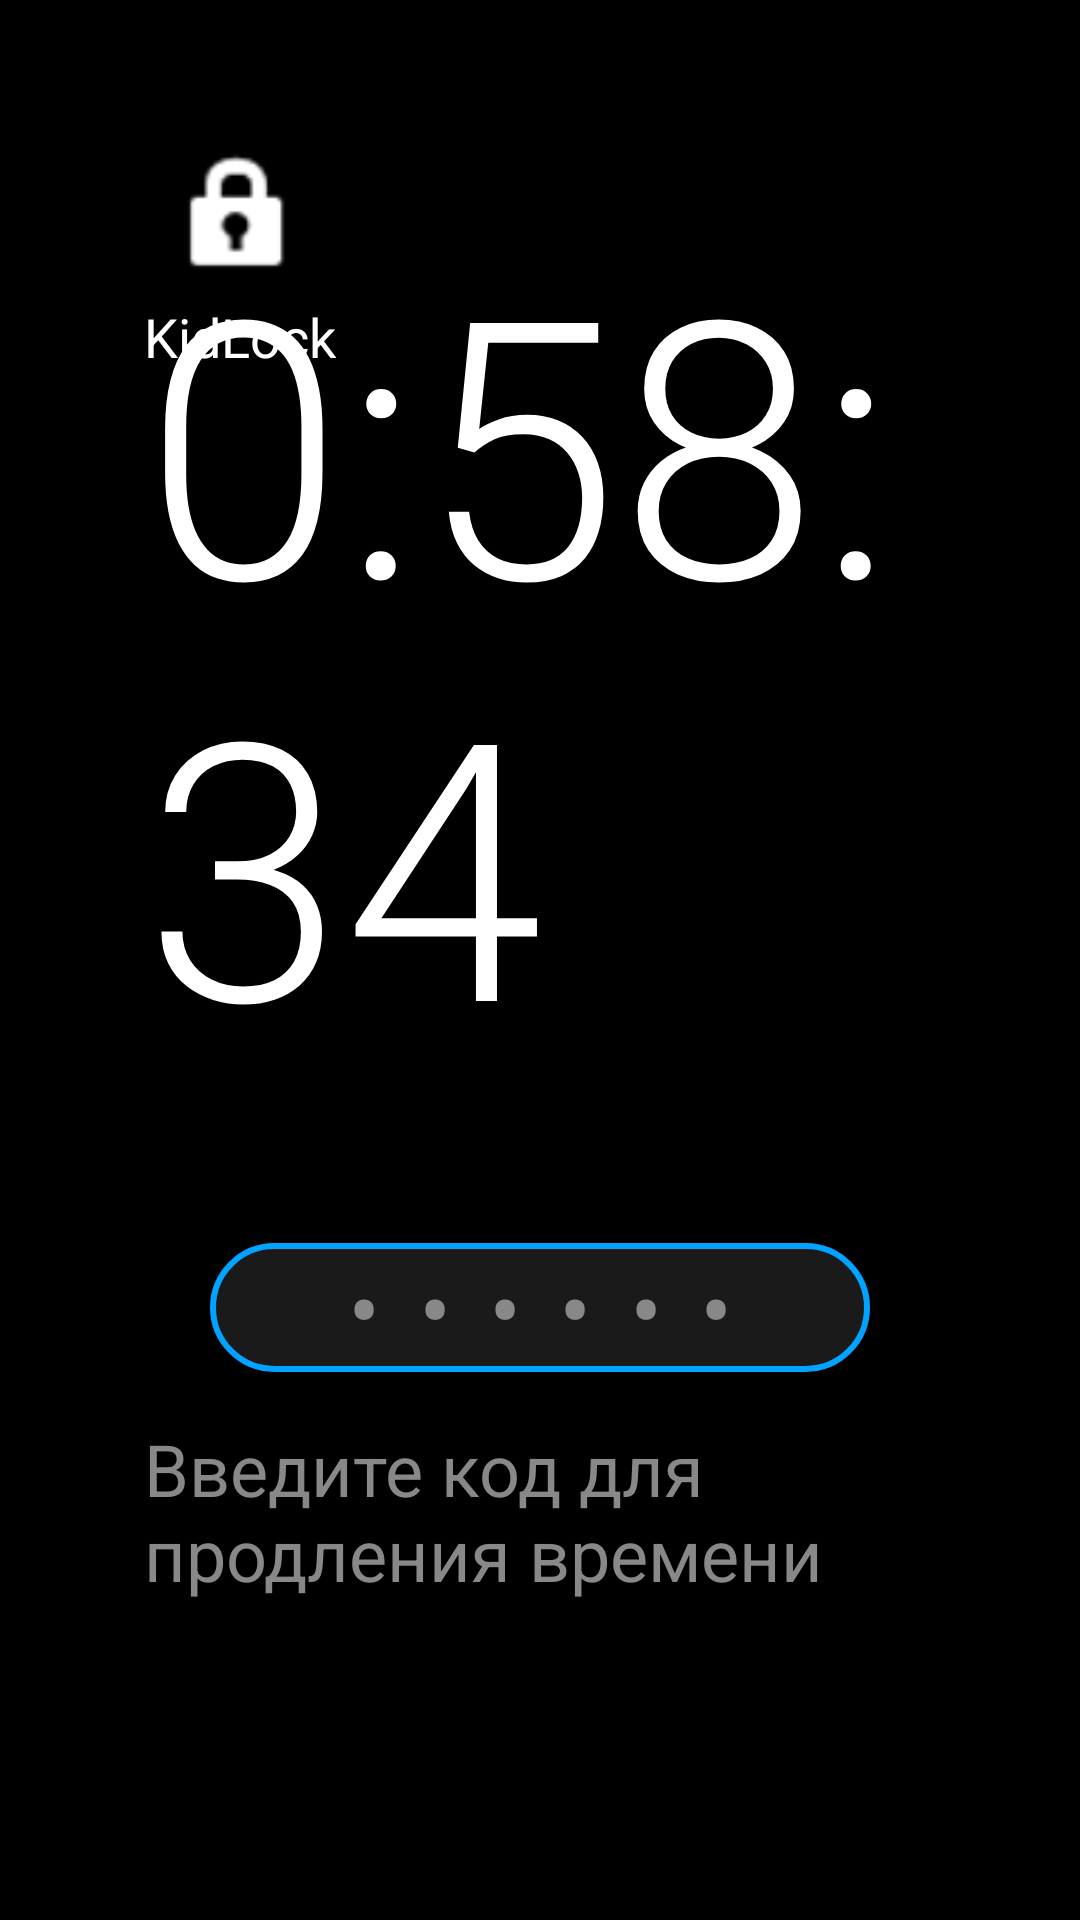

Screen size 1080 x 1920. Icon name, then its center in pixels as [x,y]:
lock idle: [236,211]
